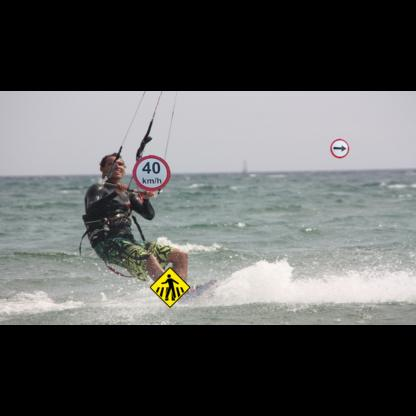A-32b: (149, 267, 191, 308)
R-19: (132, 155, 170, 191)
R-24a: (330, 139, 349, 158)
